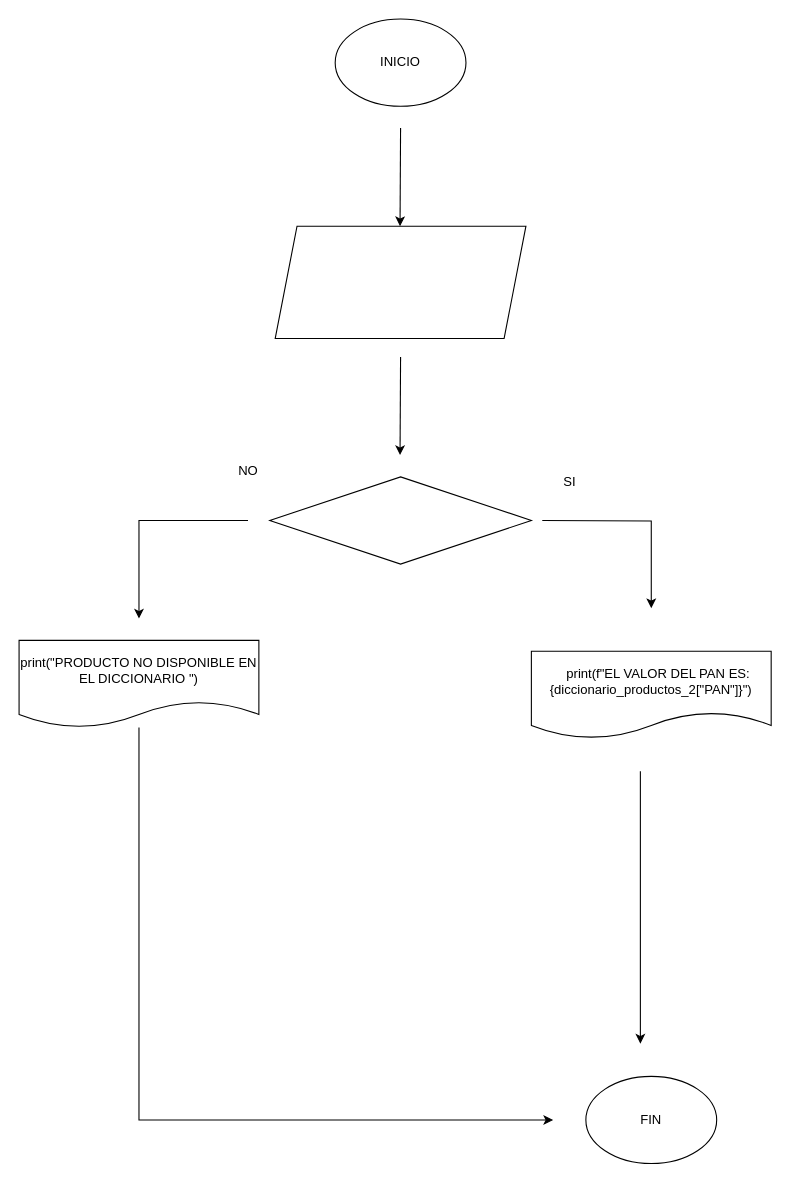
This 790x1183 diagram has some shape labels left out. Each missing label, with the centre of its shape:
diccionario_productos_2={ # "PAN": 1200, # "LECHE": 2000 # }: pixel 400 281
if "PAN" in diccionario_productos_2:: pixel 400 520
